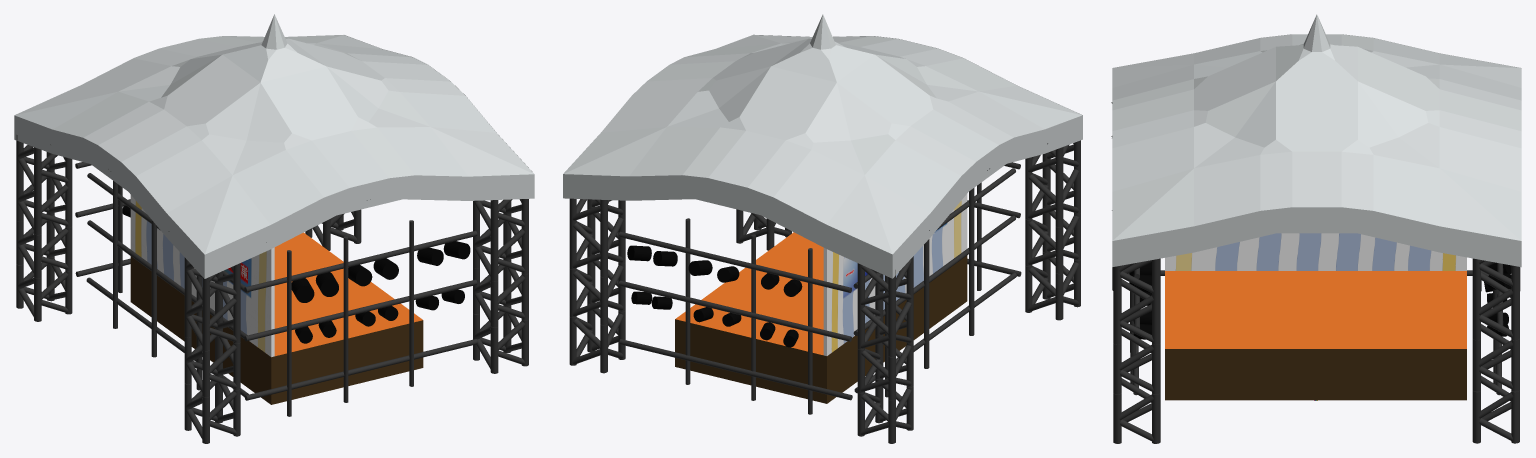
Rendered from stage.fbx.
The picture shows the model from 3 angles, left to right: view 1: azimuth 30°, elevation 25°; view 2: azimuth 150°, elevation 25°; view 3: azimuth 270°, elevation 25°; orthographic projection. The views are drawn at different scales.
Visible parts, largest first — view 1: テント, 土台, 支柱1, 支柱2, 支柱3, オブジェクト.001, 平面, 照明1, オブジェクト.005, 支柱4, オブジェクト.002; view 2: テント, 土台, 支柱2, 支柱4, 支柱1, オブジェクト.002, 平面, オブジェクト.005, 照明2, 支柱3, オブジェクト.001; view 3: テント, 土台, 平面, 支柱3, 支柱4, 照明2, 照明1, オブジェクト.001, オブジェクト.002.
Boxes of the visible parts, bbox=[...] form: テント: bbox=[14, 14, 534, 278]; 土台: bbox=[130, 232, 423, 404]; 支柱1: bbox=[184, 257, 240, 443]; 支柱2: bbox=[16, 135, 72, 321]; 支柱3: bbox=[473, 199, 528, 373]; オブジェクト.001: bbox=[244, 220, 477, 416]; 平面: bbox=[130, 195, 274, 356]; 照明1: bbox=[291, 241, 470, 343]; オブジェクト.005: bbox=[86, 173, 249, 396]; 支柱4: bbox=[305, 209, 361, 250]; オブジェクト.002: bbox=[75, 162, 130, 292]; テント: bbox=[563, 14, 1082, 278]; 土台: bbox=[675, 232, 967, 403]; 支柱2: bbox=[857, 256, 913, 443]; 支柱4: bbox=[569, 198, 625, 373]; 支柱1: bbox=[1025, 140, 1080, 320]; オブジェクト.002: bbox=[618, 218, 852, 414]; 平面: bbox=[823, 194, 967, 355]; オブジェクト.005: bbox=[853, 168, 1016, 397]; 照明2: bbox=[627, 245, 802, 347]; 支柱3: bbox=[736, 209, 791, 250]; オブジェクト.001: bbox=[967, 162, 1021, 290]; テント: bbox=[1112, 14, 1521, 267]; 土台: bbox=[1165, 271, 1466, 400]; 平面: bbox=[1165, 233, 1466, 270]; 支柱3: bbox=[1113, 258, 1160, 443]; 支柱4: bbox=[1472, 258, 1519, 443]; 照明2: bbox=[1484, 262, 1511, 336]; 照明1: bbox=[1129, 262, 1151, 339]; オブジェクト.001: bbox=[1130, 268, 1139, 395]; オブジェクト.002: bbox=[1493, 263, 1503, 395].
Bounding box in the file's own units: 21742 × 20207 × 21734.
Materials: 2 (2 with a texture image).
